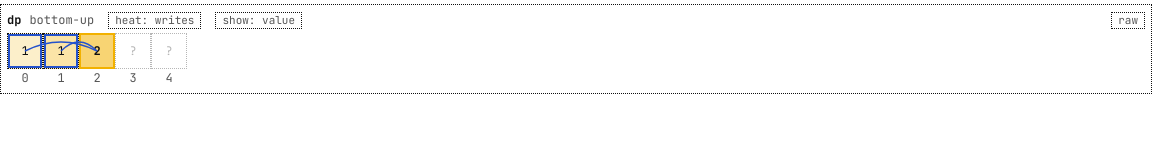
DpTablePanel › show chip returns to values on a second click
This screenshot has width=1152, height=160.
Click the button with class "dp-show-toggle".
click(259, 21)  # box [215,12,302,29]
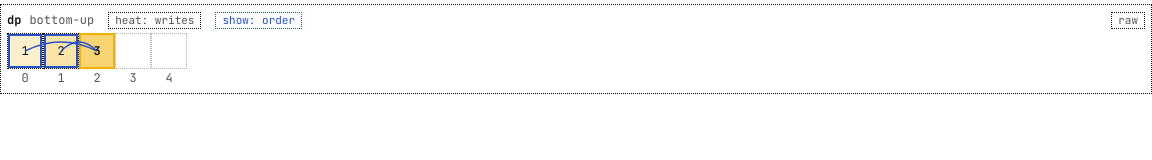
Click the button with class "dp-show-toggle".
click(259, 21)  # box [215,12,302,29]
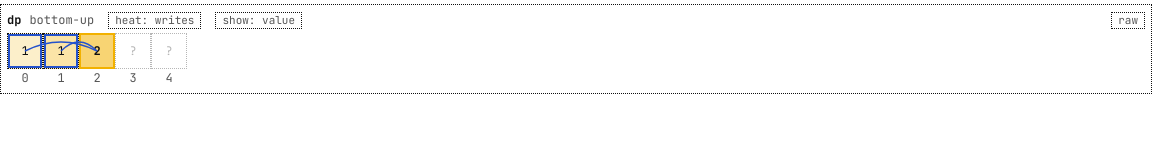
expect the 1st text "2" is shown: met, box [79,33,115,69]
